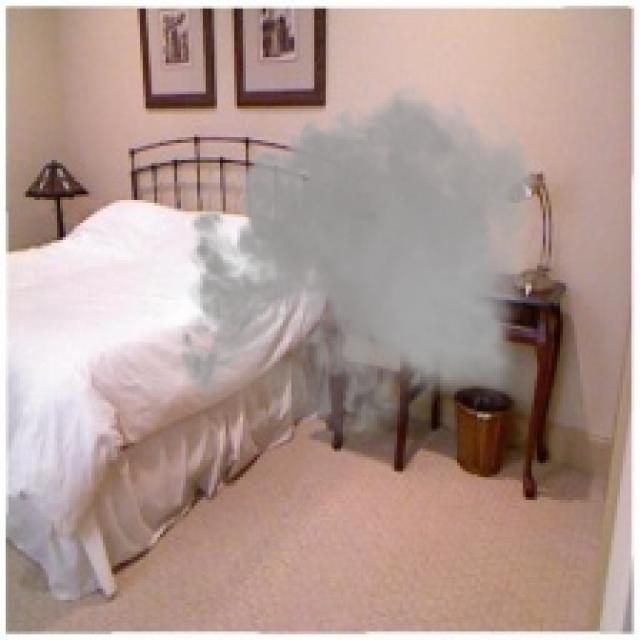smoke: (166, 69, 548, 457)
